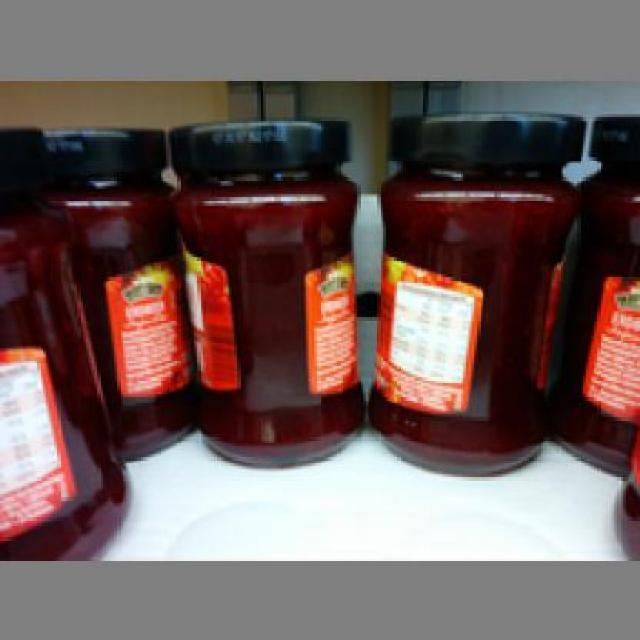Jam: (366, 111, 583, 472), (163, 114, 363, 463), (0, 122, 129, 558)
